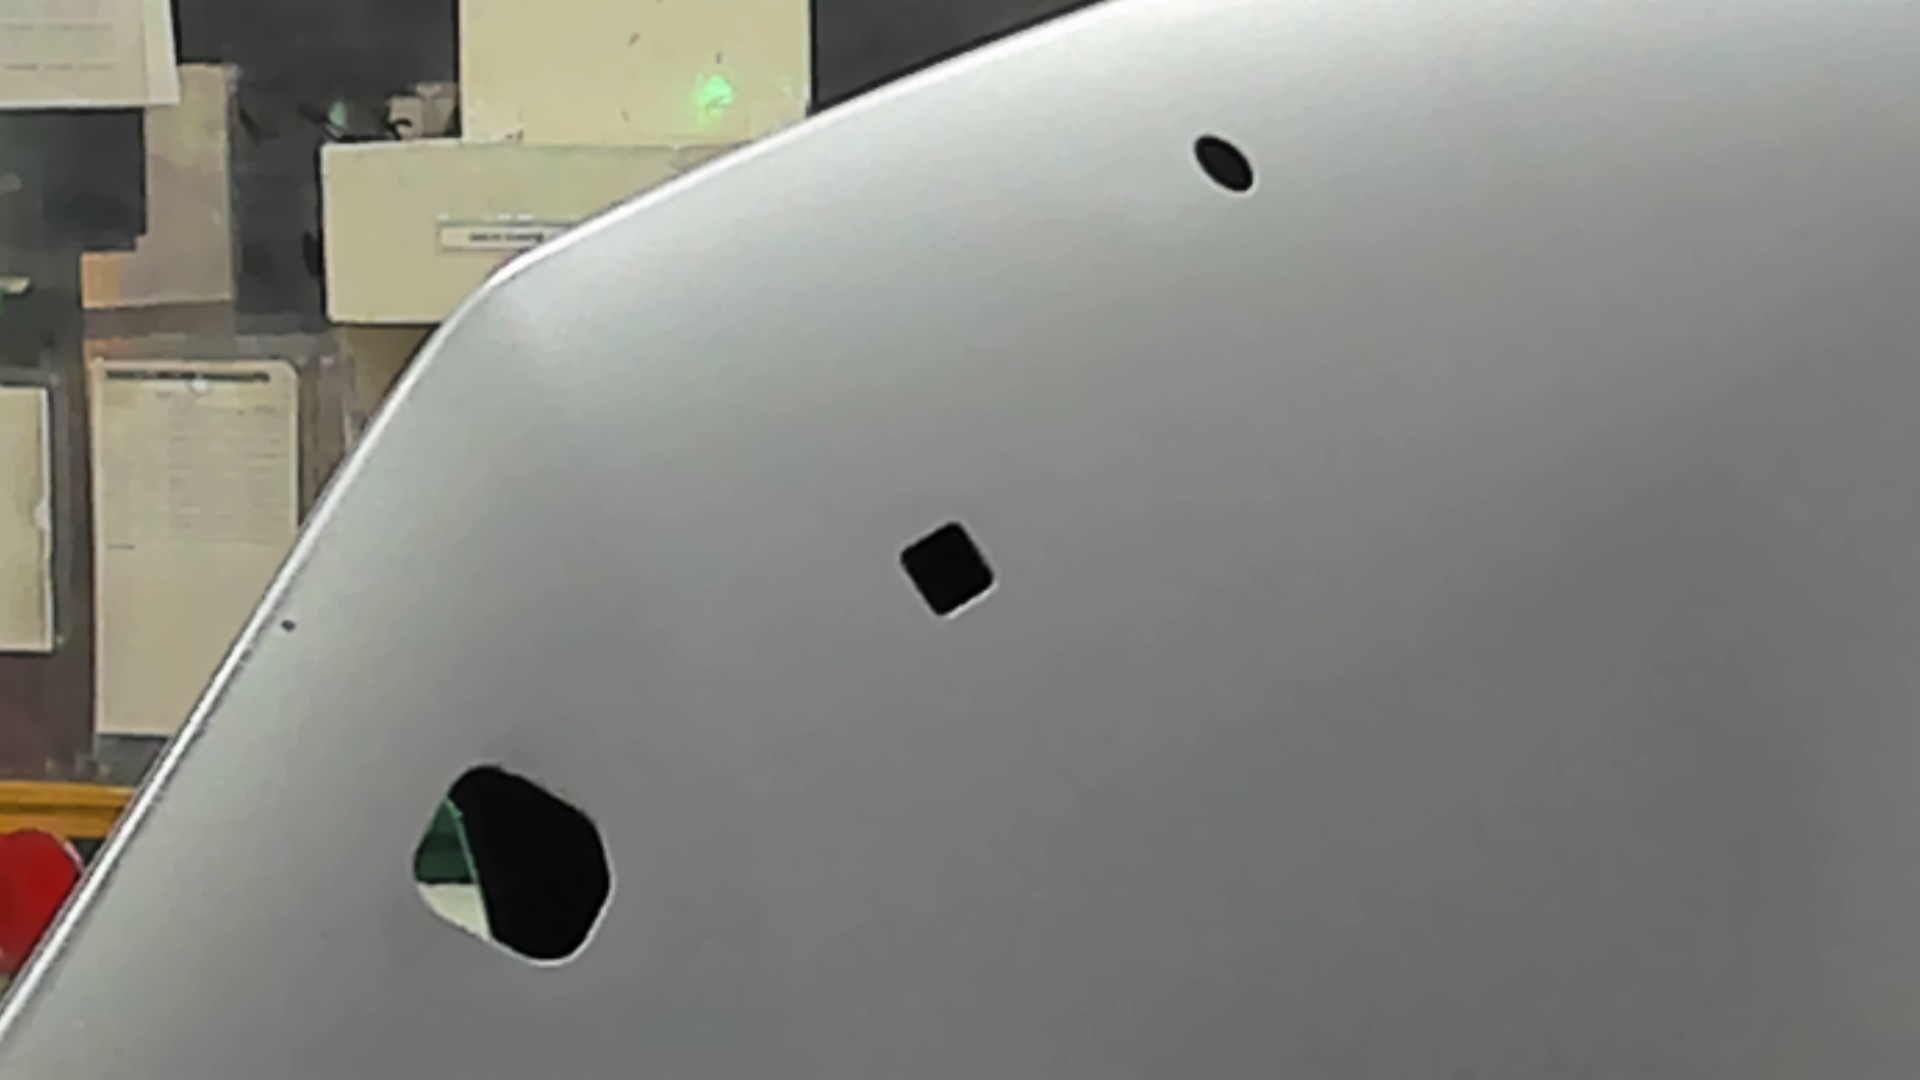chico: (1178, 127, 1266, 210)
grande: (393, 753, 624, 981)
mediano: (880, 505, 1013, 632)
